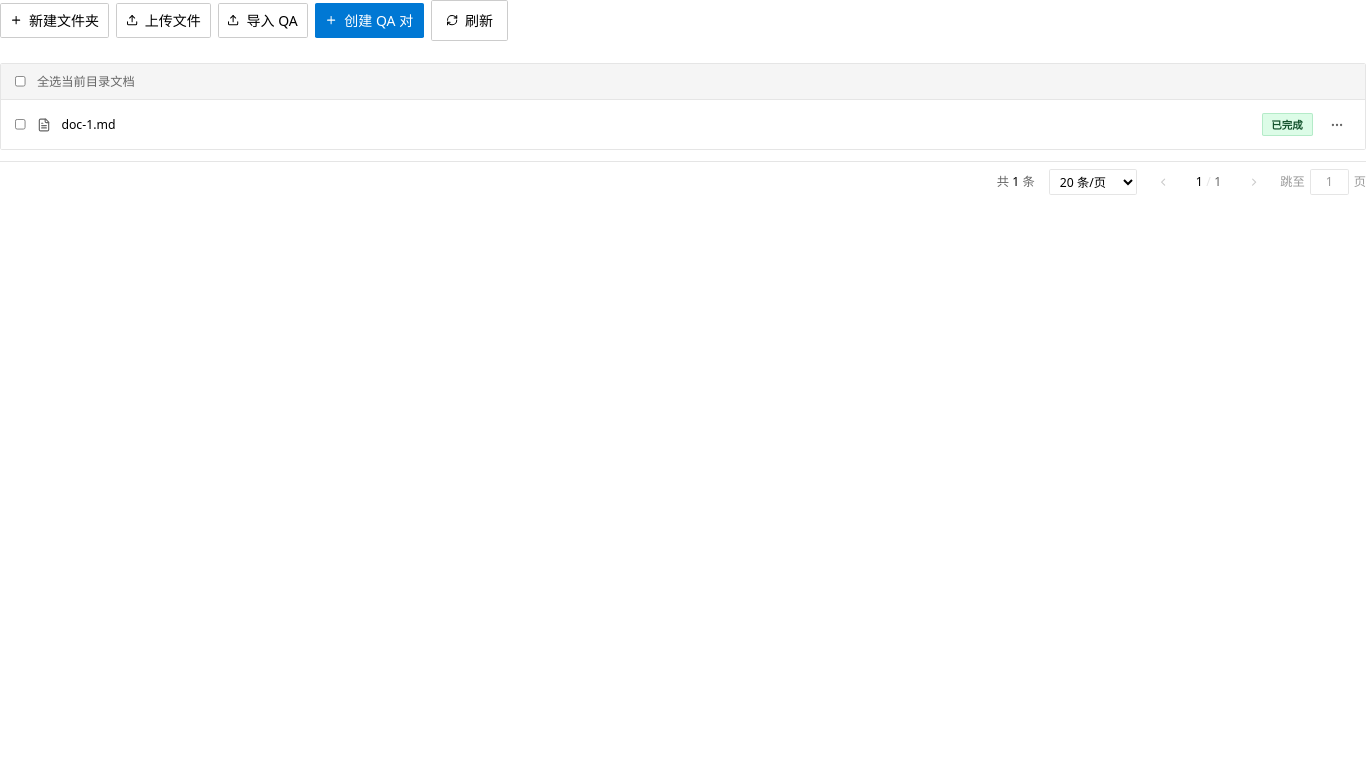
Test case: KbDocumentsTab › shows recall metrics inside the document detail drawer
Click the button "doc-1.md". click: (88, 124)
box: [37,116,1251,134]
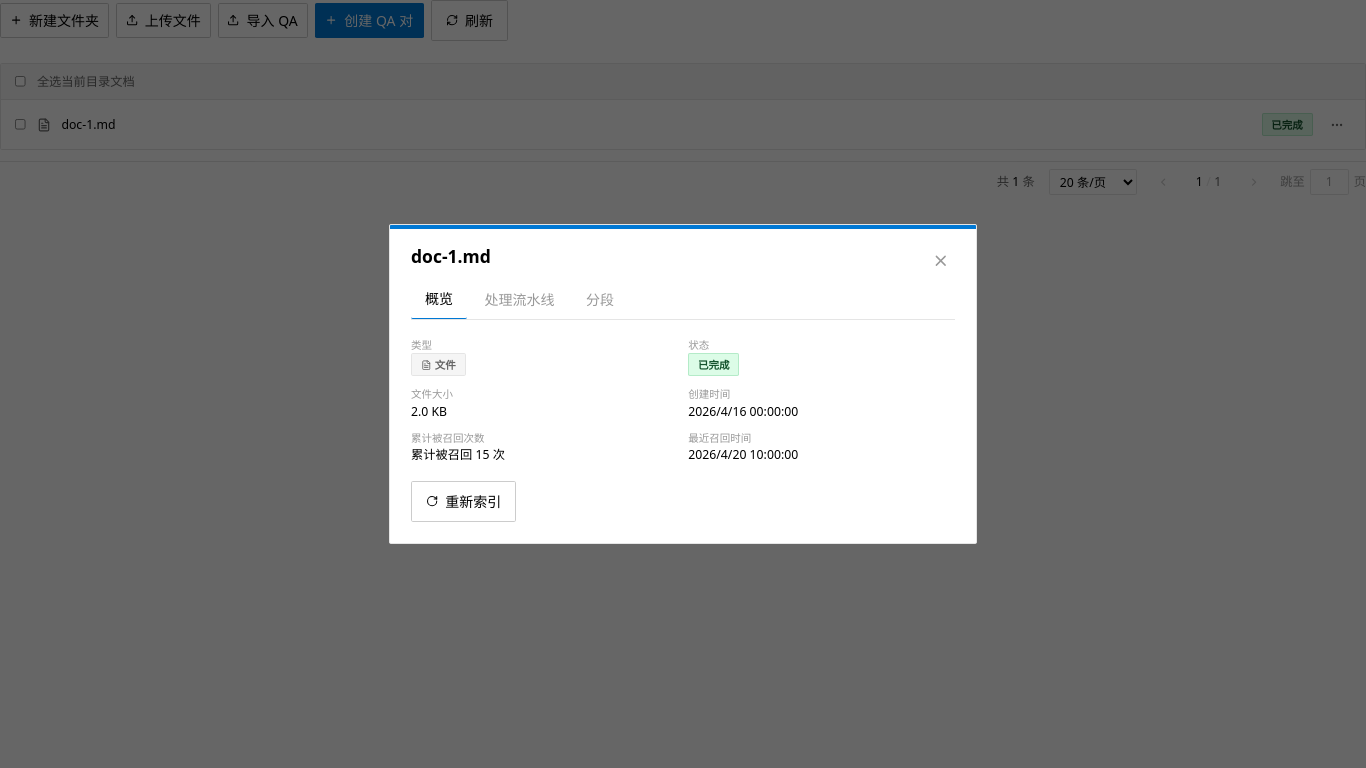
Now the text "累计被召回次数" is shown, box [411,430,484,444]
Now the text "累计被召回 15 次" is shown, box [411,446,505,463]
Now the text "最近召回时间" is shown, box [688,430,751,444]
